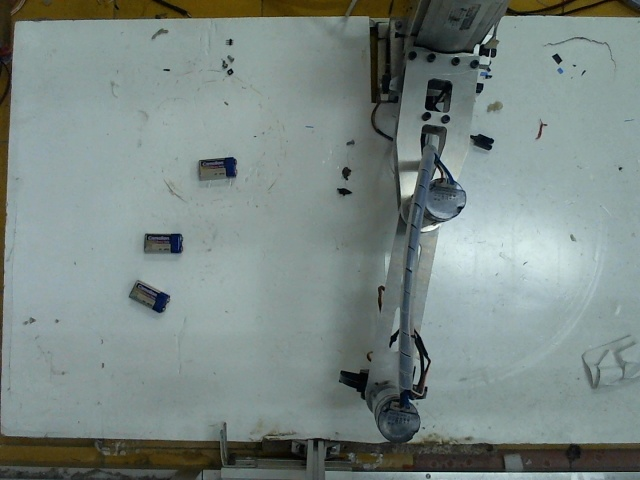battery: (120, 276, 172, 313), (137, 227, 184, 258), (192, 153, 237, 181)
